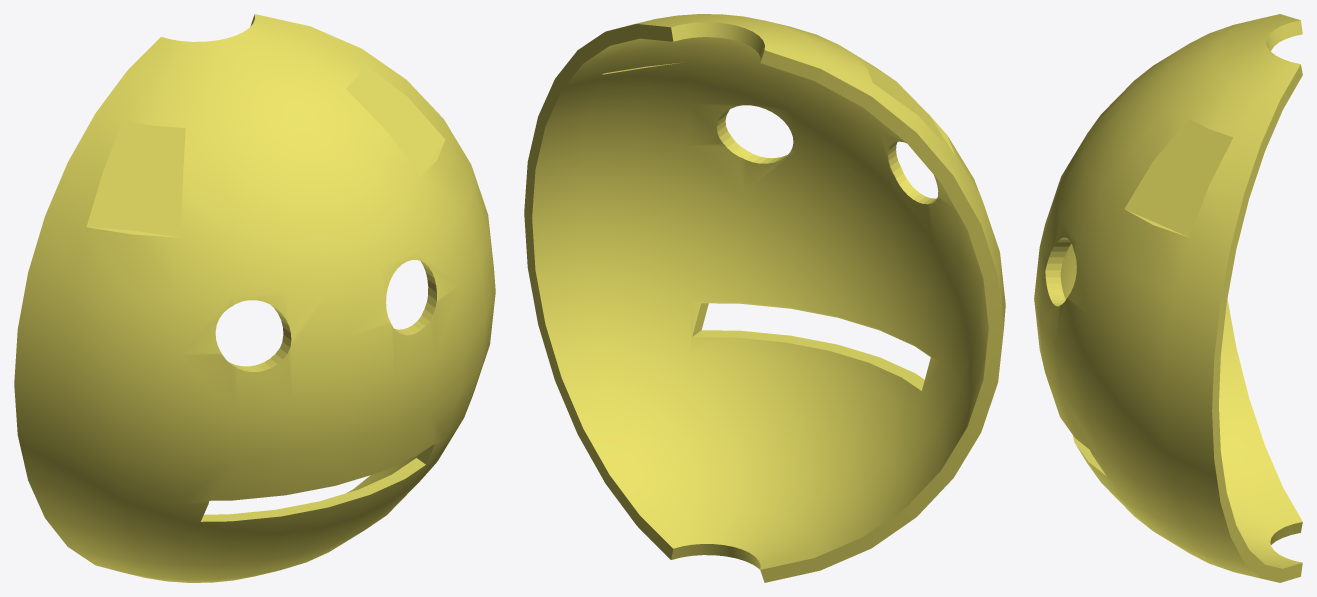
Rendered from yellow.glb.
The picture shows the model from 3 angles, left to right: view 1: azimuth 30°, elevation 25°; view 2: azimuth 150°, elevation 25°; view 3: azimuth 270°, elevation 25°; orthographic projection. The views are drawn at different scales.
Parts seen in each view (by area): view 1: yellow_mask; view 2: yellow_mask; view 3: yellow_mask.
Part boxes in pixels (left/top/right/bottom): yellow_mask: left=14, top=14, right=495, bottom=582; yellow_mask: left=524, top=14, right=1005, bottom=582; yellow_mask: left=1034, top=14, right=1302, bottom=582.
Bounding box in the file's own units: 0.8872 × 0.9419 × 0.4476.
